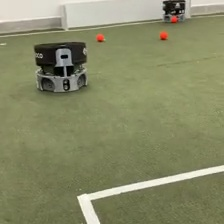ball: (158, 30, 168, 40), (95, 32, 104, 41), (170, 14, 177, 22)
goal: (60, 1, 193, 33)
robot: (33, 39, 87, 94), (161, 1, 186, 22)
